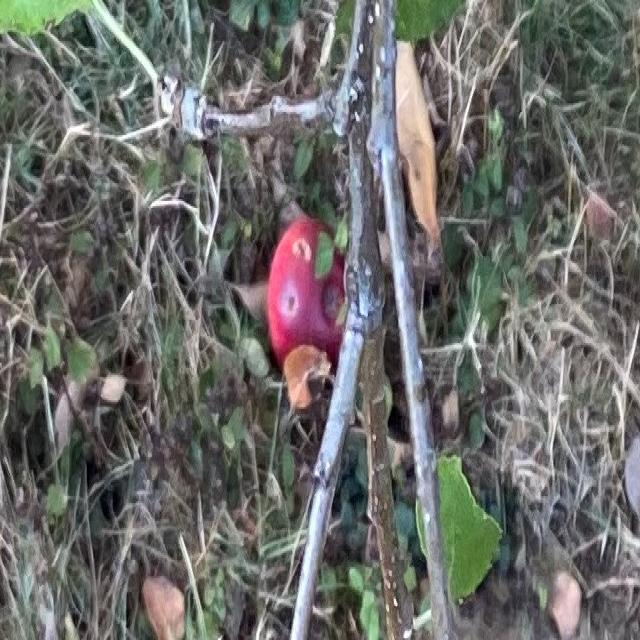100-_ripeness: (269, 226, 348, 366)
